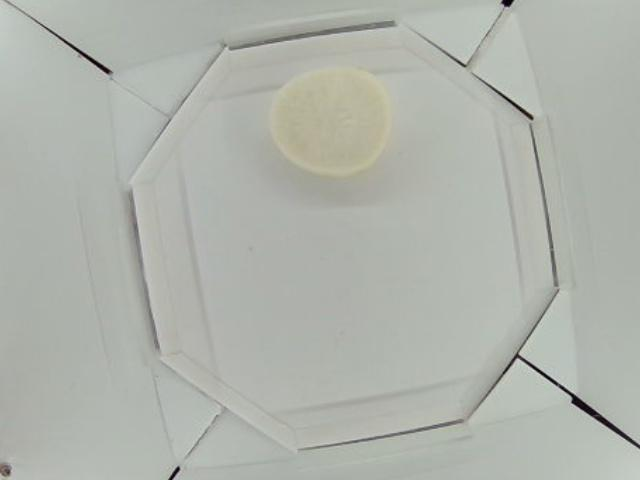Mooli: (270, 68, 390, 176)
